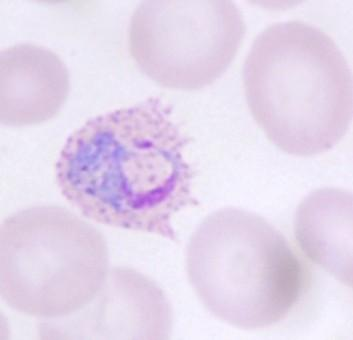Infected: (52, 92, 202, 245)
Uninfected: (241, 20, 353, 158), (184, 206, 302, 329), (0, 203, 106, 318), (130, 0, 244, 89), (0, 44, 70, 123)
